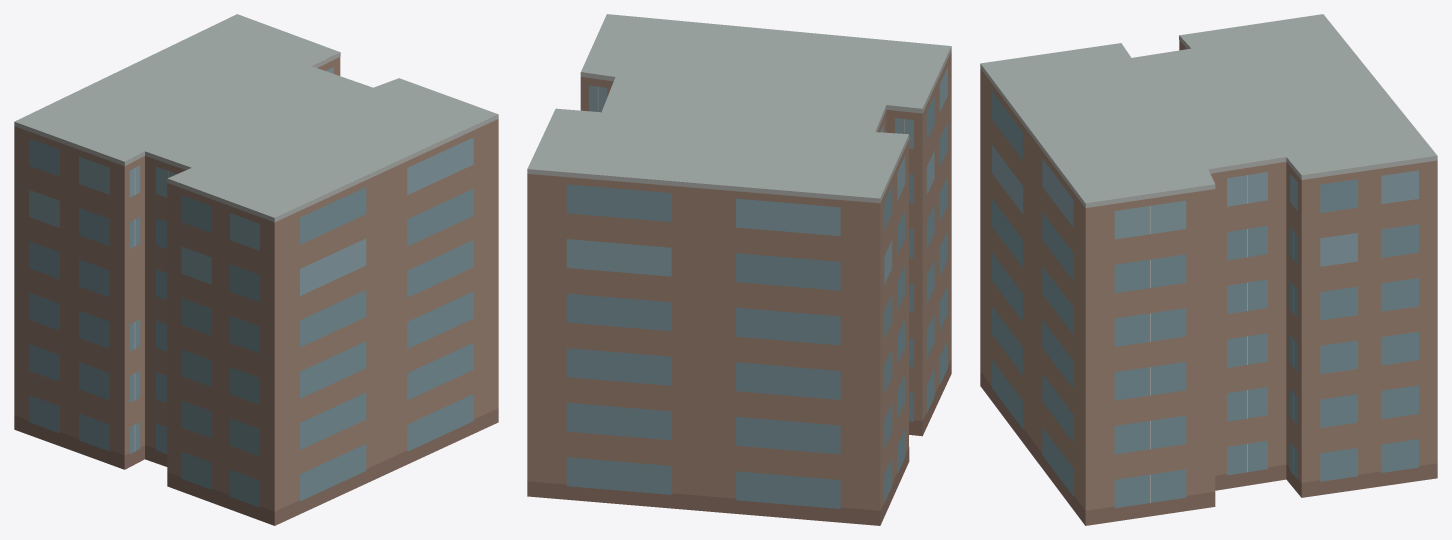
The model's file is survey-upis-32560661.glb.
3 views of the same model, side by side, from view 1: azimuth 30°, elevation 25°; view 2: azimuth 150°, elevation 25°; view 3: azimuth 270°, elevation 25° (orthographic). The views are drawn at different scales.
Parts seen in each view (by area): view 1: survey-upis-32560661.tmp; view 2: survey-upis-32560661.tmp; view 3: survey-upis-32560661.tmp.
Part boxes in pixels (left/top/right/bottom): survey-upis-32560661.tmp: left=14, top=14, right=498, bottom=525; survey-upis-32560661.tmp: left=527, top=14, right=951, bottom=525; survey-upis-32560661.tmp: left=980, top=14, right=1437, bottom=525.
Bounding box in the file's own units: 21.18 × 16.8 × 21.6.
